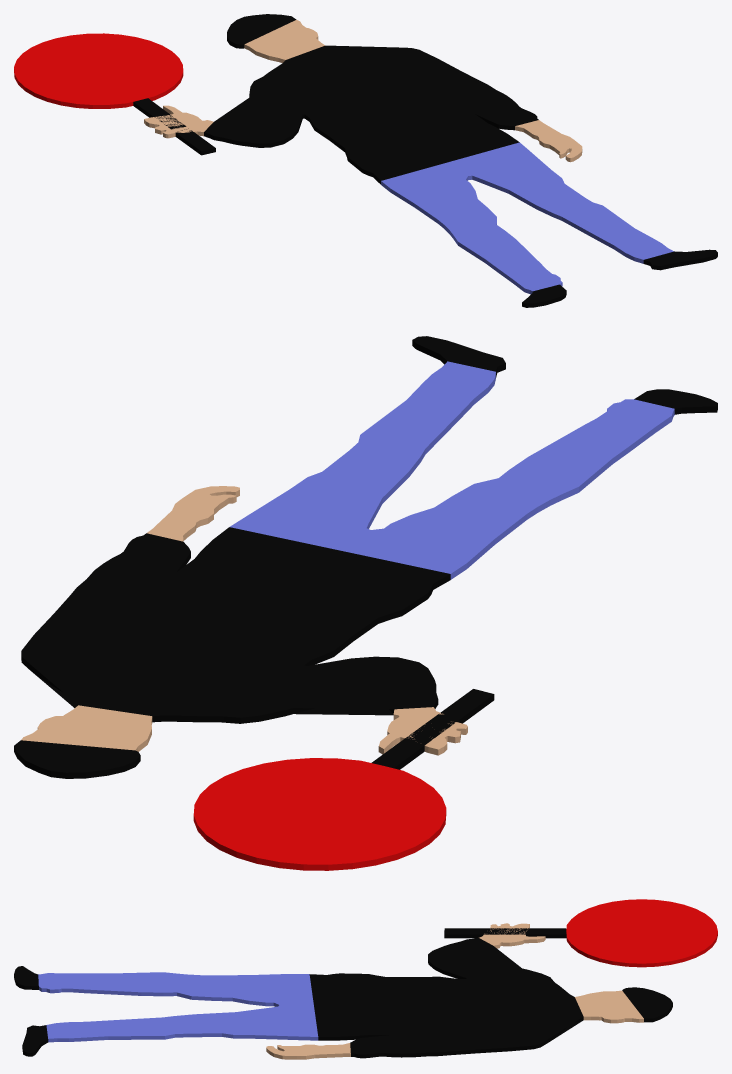
Rendered from Person.fbx.
3 renders of one model, top to bottom at view 1: azimuth 30°, elevation 25°; view 2: azimuth 150°, elevation 25°; view 3: azimuth 270°, elevation 25°, orthographic. The views are drawn at different scales.
Parts seen in each view (by area): view 1: Circle; view 2: Circle; view 3: Circle.
Boxes of the visible parts, <box> form: Circle: <box>14,14,717,307</box>; Circle: <box>14,336,717,870</box>; Circle: <box>14,899,717,1059</box>.
Size of the model in its own units: 243 by 2.66 by 462.
